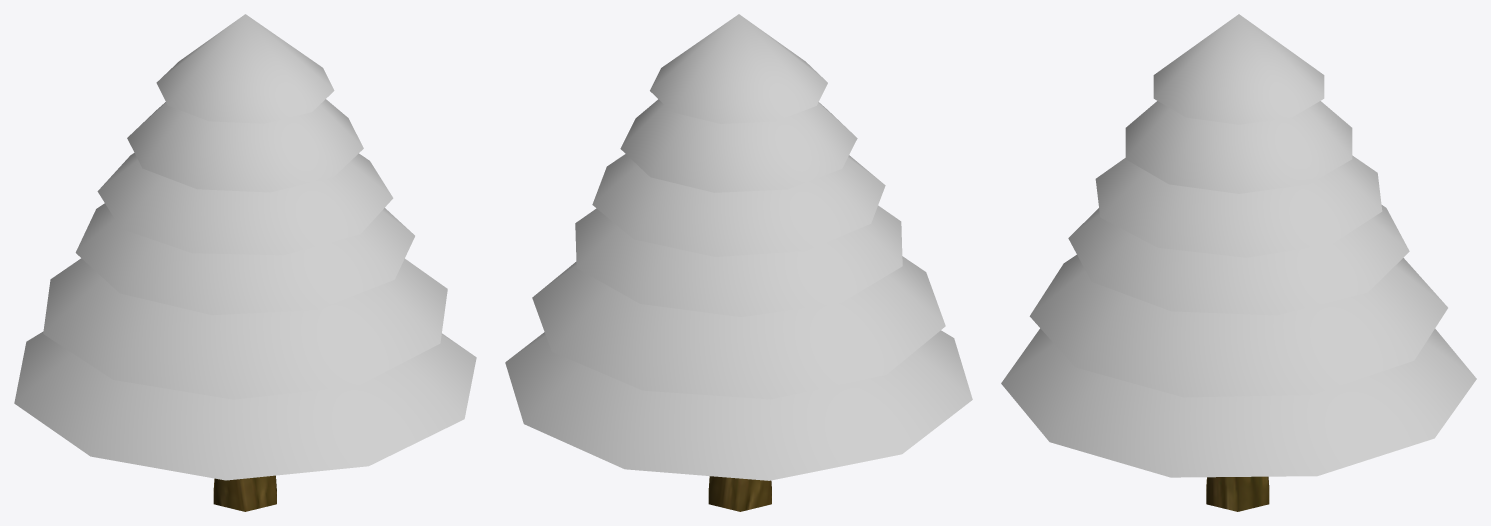
The model's file is bigmap_pine04.FBX.
The picture shows the model from 3 angles, left to right: view 1: azimuth 30°, elevation 25°; view 2: azimuth 150°, elevation 25°; view 3: azimuth 270°, elevation 25°; orthographic projection.
Visible parts, largest first — view 1: bigmap_pine04; view 2: bigmap_pine04; view 3: bigmap_pine04.
Boxes of the visible parts, x1,y1,x2,y2 form: bigmap_pine04: [14, 14, 476, 511]; bigmap_pine04: [505, 14, 972, 511]; bigmap_pine04: [1001, 14, 1476, 511].
Bounding box in the file's own units: 2.14 × 2.23 × 2.5.
